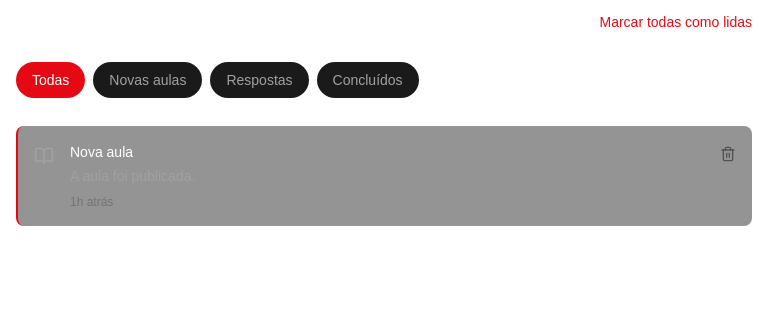
Test: NotificationsPage › shows filtered empty state when filter has no matches
Check: the text "Nova aula" is shown, box [70,144,133,160]
Click "Concluídos" filter — no COURSE_COMPLETED notifications
Click the button "Concluídos": coordinates (368, 80) [317,62,419,98]
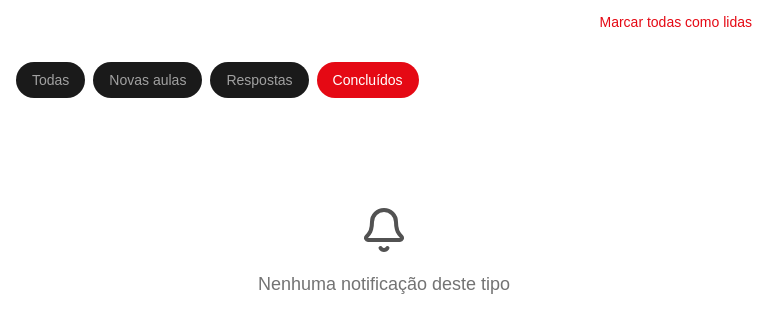
Check: the text "Nenhuma notificação deste tipo" is shown, box [258,270,510,298]
